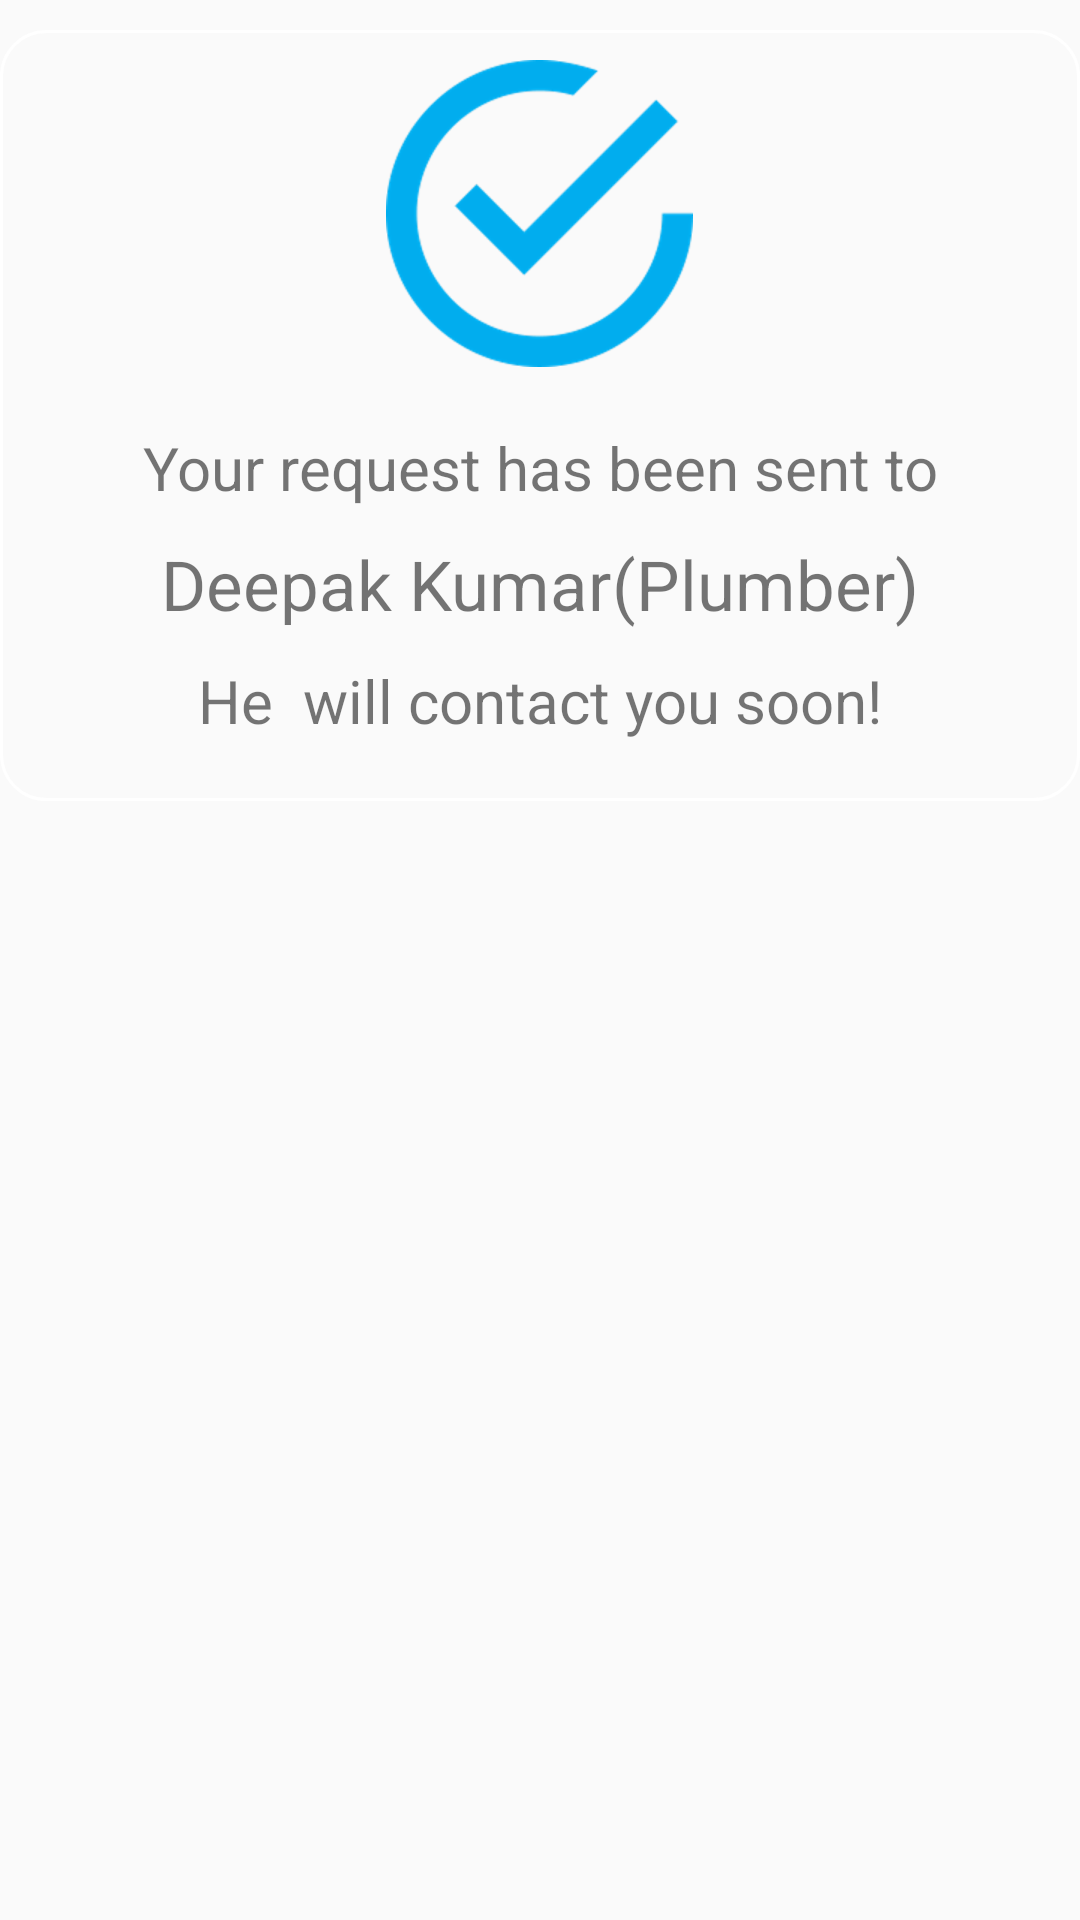

Named icons in this screenshot (1080*1920) and their bounding boxes, (x1, y1, x2, y2):
check: (386, 60, 693, 367)
